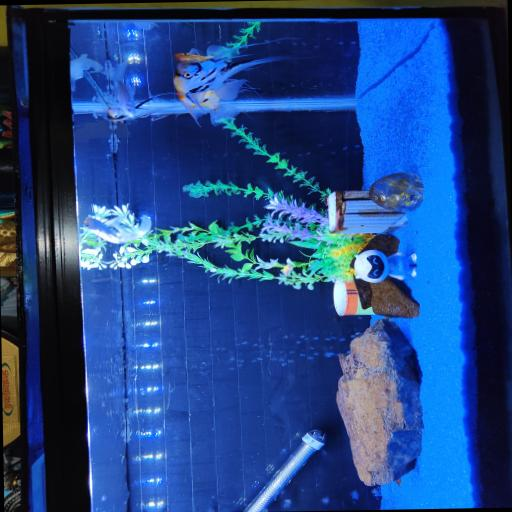Fish: (174, 56, 299, 107), (174, 37, 297, 62), (107, 93, 177, 123), (178, 91, 239, 125), (84, 213, 151, 243), (104, 62, 135, 118), (71, 54, 103, 90), (174, 46, 237, 62), (107, 108, 136, 123), (283, 258, 295, 276), (396, 480, 401, 487)
